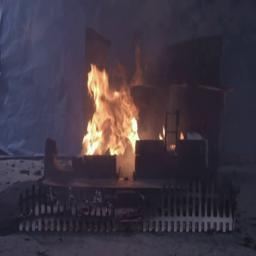fire: (78, 57, 143, 164)
